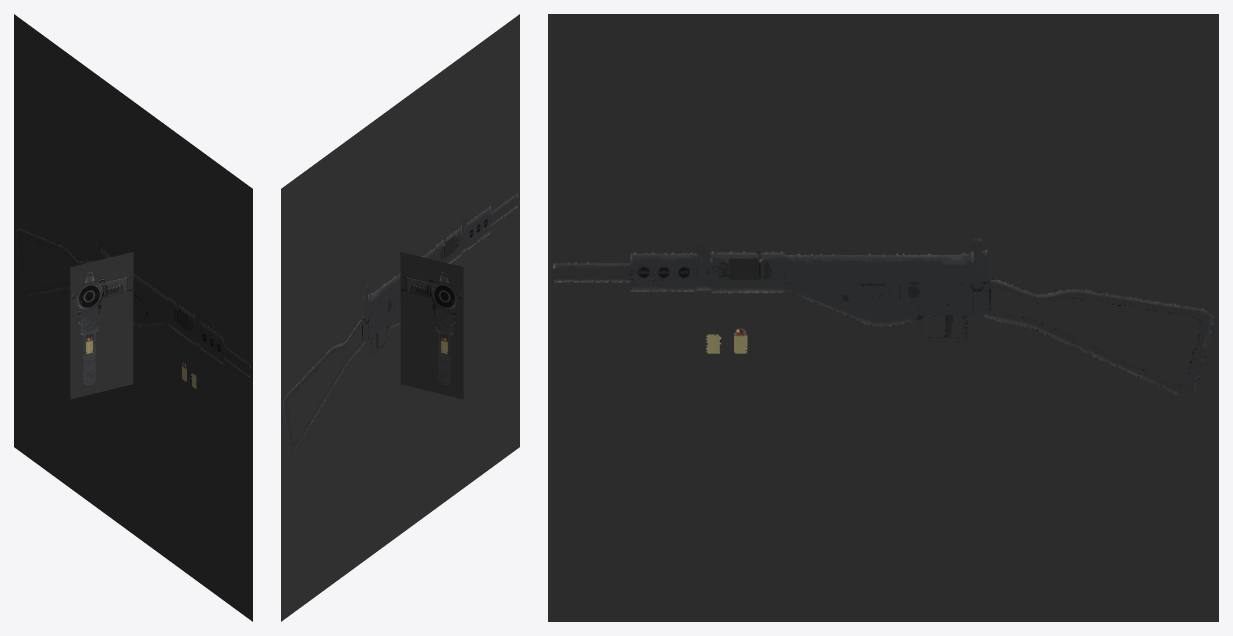
File: sten_mk2_foxxassets_v2_pbr_bb.glb
3 views of the same model, side by side, from view 1: azimuth 30°, elevation 25°; view 2: azimuth 150°, elevation 25°; view 3: azimuth 270°, elevation 25° (orthographic). The views are drawn at different scales.
Parts seen in each view (by area): view 1: sten_mk2_foxxassets_v2_pbr_bb; view 2: sten_mk2_foxxassets_v2_pbr_bb; view 3: sten_mk2_foxxassets_v2_pbr_bb.
Boxes of the visible parts, x1=… form: sten_mk2_foxxassets_v2_pbr_bb: x1=14, y1=14, x2=252, y2=621; sten_mk2_foxxassets_v2_pbr_bb: x1=281, y1=14, x2=519, y2=621; sten_mk2_foxxassets_v2_pbr_bb: x1=548, y1=14, x2=1218, y2=621.
Bounding box in the file's own units: 0.2367 × 0.7752 × 0.7752.
1 material, 1 textured.
